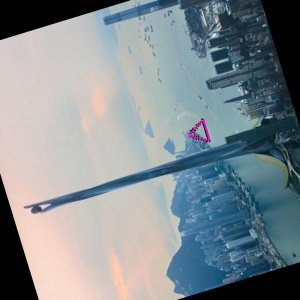triangle: (187, 116, 213, 144)
